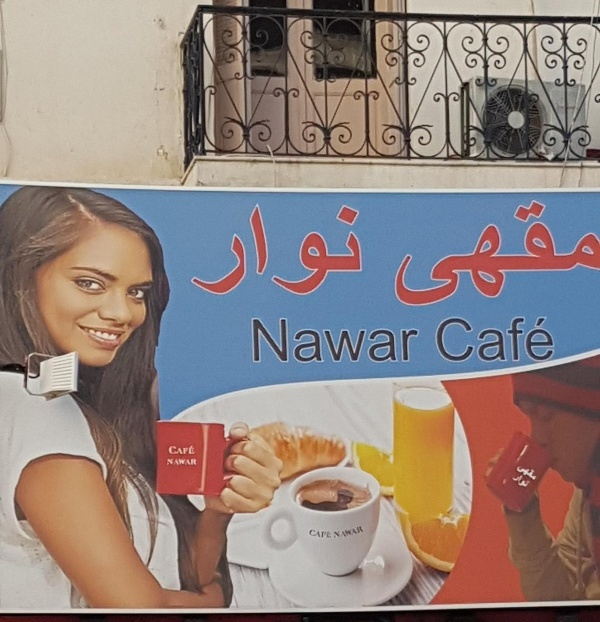text: (401, 200, 416, 308), (417, 200, 432, 308), (433, 200, 448, 308), (449, 200, 464, 308), (465, 200, 480, 308), (481, 200, 496, 308), (497, 200, 512, 308), (513, 200, 528, 308), (529, 200, 544, 308), (545, 200, 560, 308), (561, 200, 576, 308), (577, 200, 592, 308), (193, 202, 208, 298), (209, 202, 224, 298), (225, 202, 240, 298), (241, 202, 256, 298), (257, 202, 272, 298), (273, 202, 288, 298), (289, 202, 304, 298), (305, 202, 320, 298), (321, 202, 336, 298), (337, 202, 352, 298), (353, 202, 363, 298), (593, 200, 600, 308), (257, 318, 272, 364), (273, 318, 288, 364), (289, 318, 304, 364), (305, 318, 320, 364), (321, 318, 336, 364), (337, 318, 352, 364), (353, 318, 368, 364), (369, 318, 384, 364), (385, 318, 400, 364), (401, 318, 416, 364), (449, 317, 464, 363), (465, 317, 480, 363), (481, 317, 496, 363), (497, 317, 512, 363), (513, 317, 528, 363), (529, 317, 544, 363), (436, 317, 448, 363), (395, 200, 400, 308), (545, 317, 556, 363), (337, 525, 352, 542), (529, 463, 540, 483), (353, 525, 365, 542), (252, 318, 256, 364), (518, 471, 528, 489), (177, 446, 192, 455), (522, 463, 528, 483), (309, 530, 320, 540), (321, 530, 332, 540), (177, 459, 192, 466), (191, 202, 192, 298), (417, 318, 419, 364), (529, 471, 534, 489), (169, 446, 176, 455), (167, 459, 176, 466), (334, 525, 336, 542), (193, 459, 197, 466), (193, 446, 196, 455)
